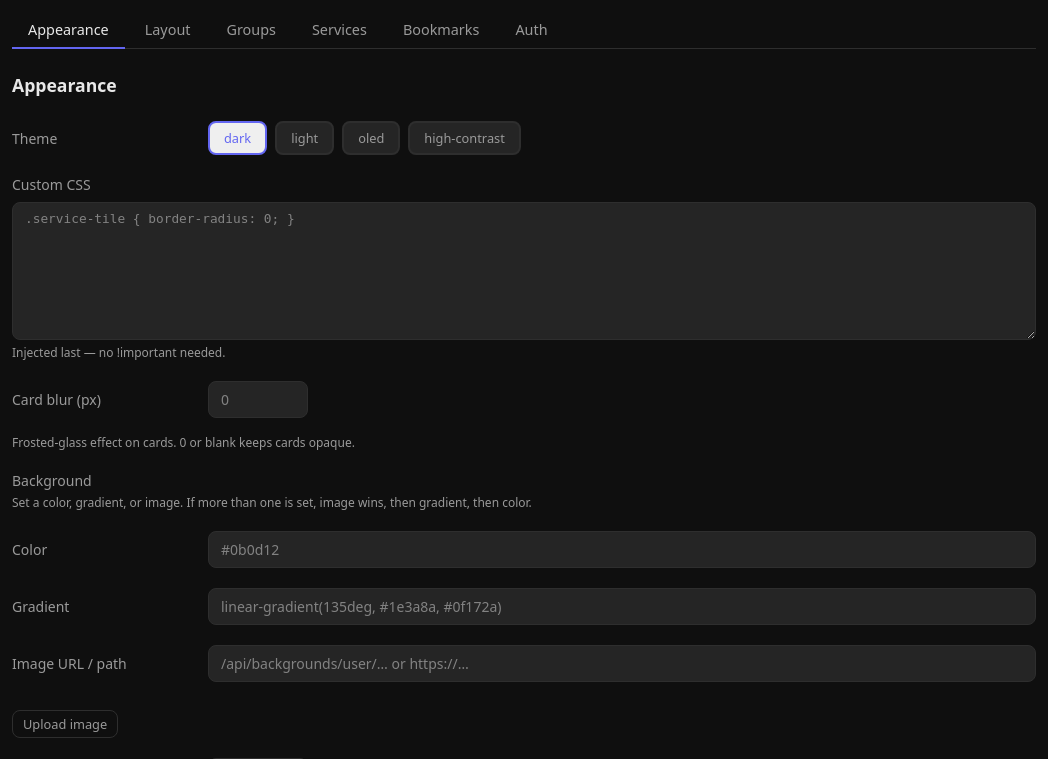
SettingsPanel - tab switching › switches to the Services section when the Services tab is clicked
The image size is (1048, 759).
Click the button "Services" at (339, 30), box left=296, top=12, right=383, bottom=49
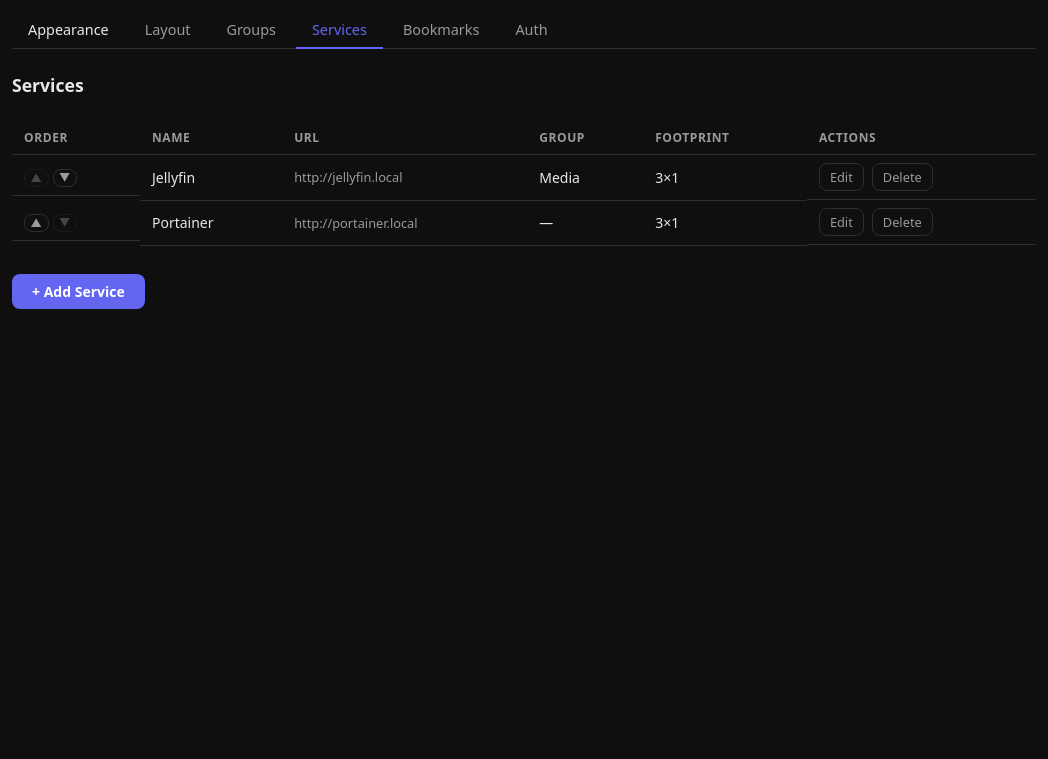
Check: the heading "Services" is shown, box left=12, top=73, right=84, bottom=97
